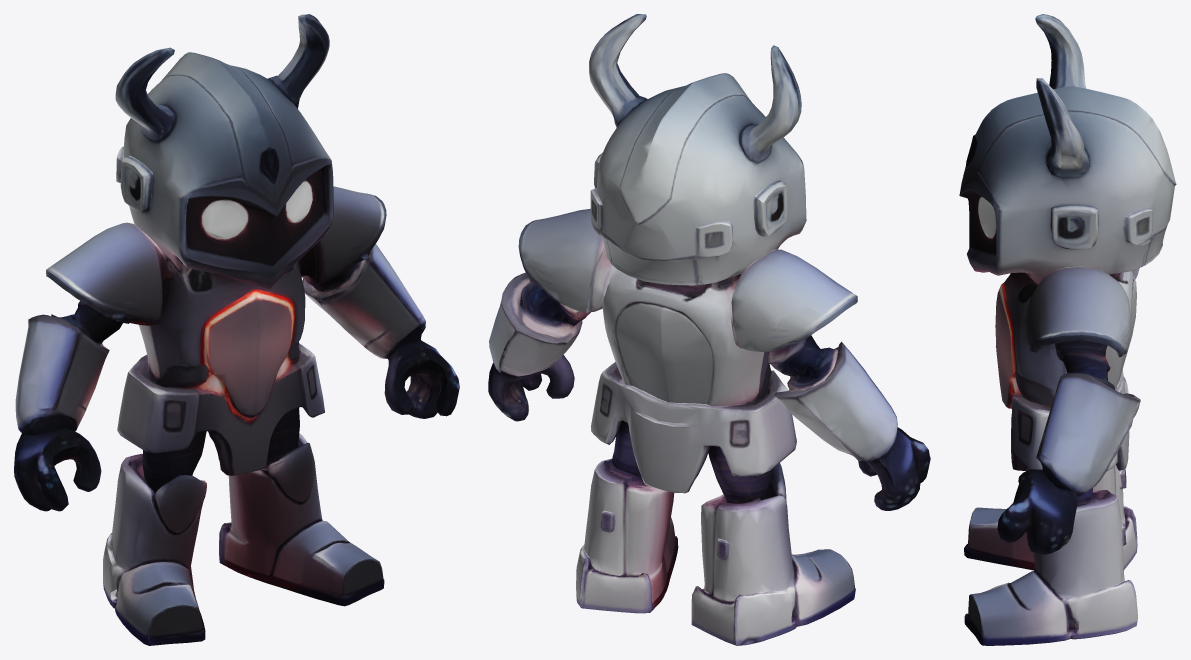
The model's file is armored-robot.glb.
3 views of the same model, side by side, from view 1: azimuth 30°, elevation 25°; view 2: azimuth 150°, elevation 25°; view 3: azimuth 270°, elevation 25° (orthographic). The views are drawn at different scales.
Parts seen in each view (by area): view 1: Object_2; view 2: Object_2; view 3: Object_2.
Boxes of the visible parts, x1,y1,x2,y2 form: Object_2: [14, 14, 459, 645]; Object_2: [488, 14, 930, 645]; Object_2: [959, 14, 1176, 645].
Size of the model in its own units: 0.7974 by 1 by 0.3632.
Materials: 1 (1 with a texture image).
